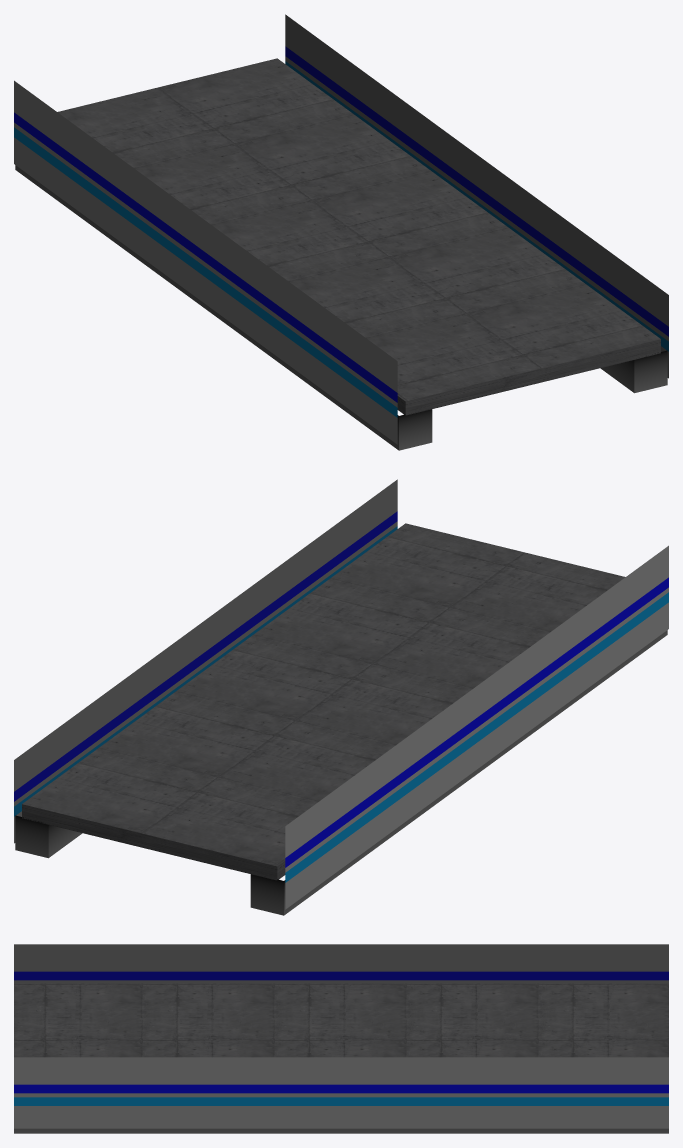
File: AMB_KAMATA100_TENJO.glb
The picture shows the model from 3 angles, top to bottom: view 1: azimuth 30°, elevation 25°; view 2: azimuth 150°, elevation 25°; view 3: azimuth 270°, elevation 25°; orthographic projection. The views are drawn at different scales.
Visible parts, largest first — view 1: BASE; view 2: BASE; view 3: BASE.
Boxes of the visible parts, x1,y1,x2,y2 form: BASE: [14, 14, 668, 450]; BASE: [14, 479, 668, 915]; BASE: [14, 944, 668, 1133].
Size of the model in its own units: 40.82 by 12.9 by 100.
Materials: 4 (4 with a texture image).
